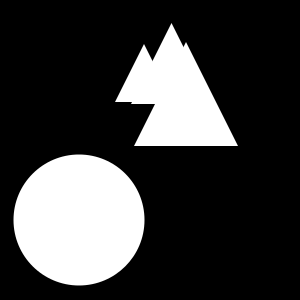rectangle: (13, 154, 144, 286)
triangle: (134, 42, 238, 146), (131, 23, 212, 104), (115, 44, 173, 102)
